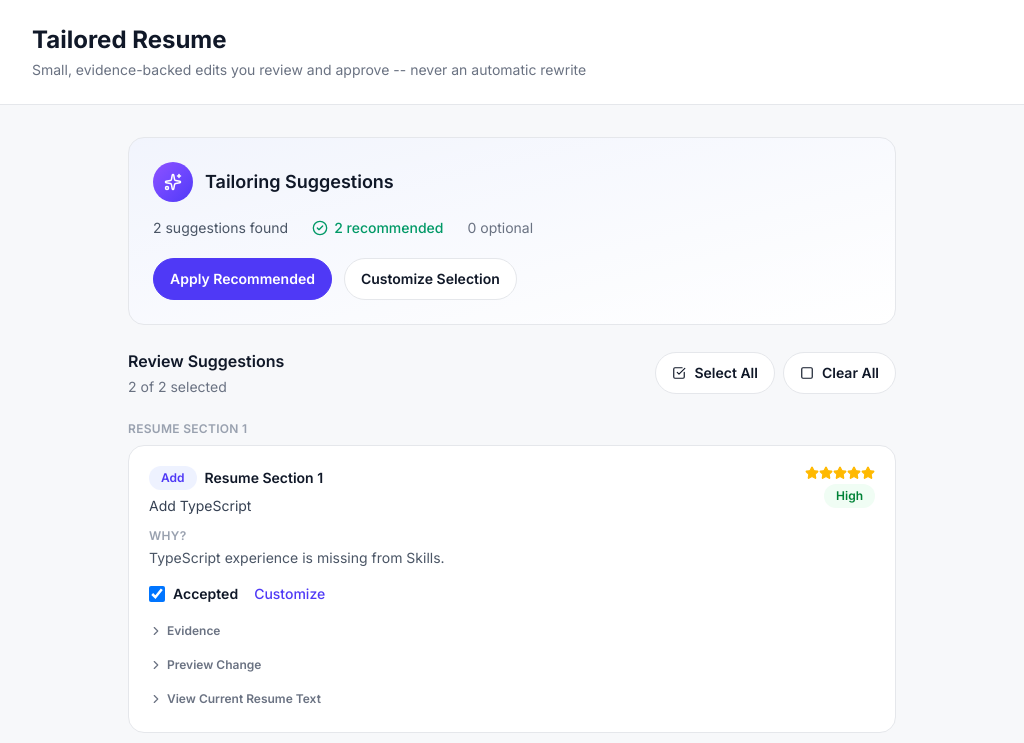
Test: TailoredResumePage: reviewing and selecting suggestions › Clear All clears every selection, and Select All reselects every suggestion
This screenshot has width=1024, height=743.
Click the button "Clear All".
click(840, 373)  # box [783, 352, 896, 394]
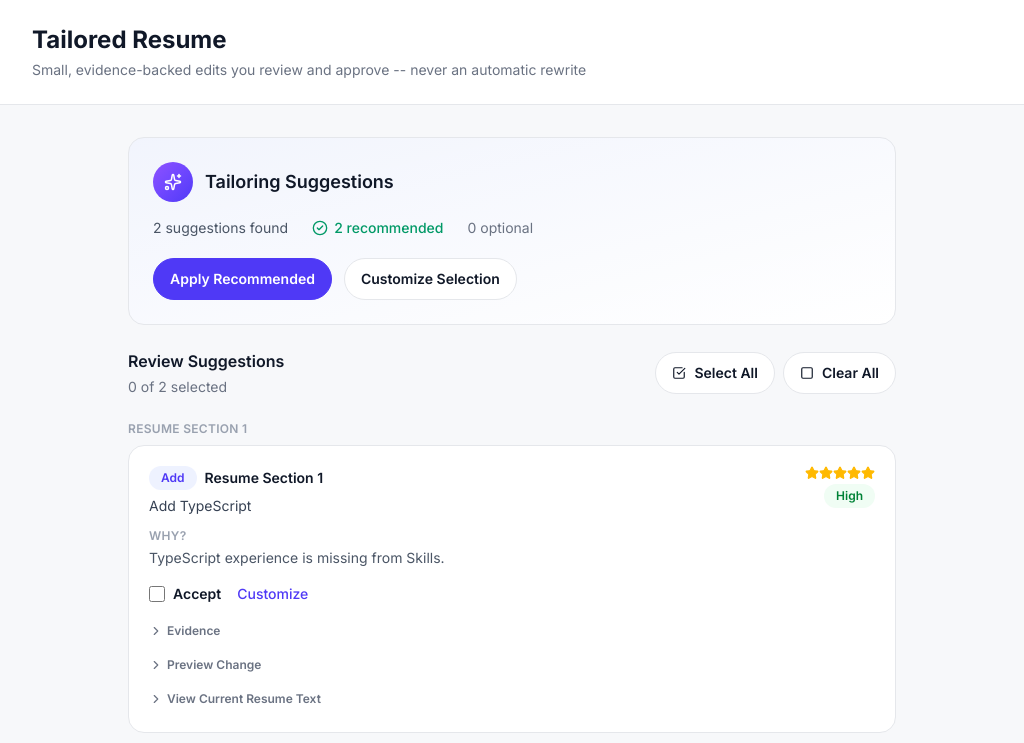
Expected: the text "0 of 2 selected" is shown, [128, 378, 227, 395]
Expected: the checkbox is not checked, [149, 586, 165, 602]
Click the button "Select All".
click(715, 373)  # box [656, 352, 775, 394]
(page scrolled)
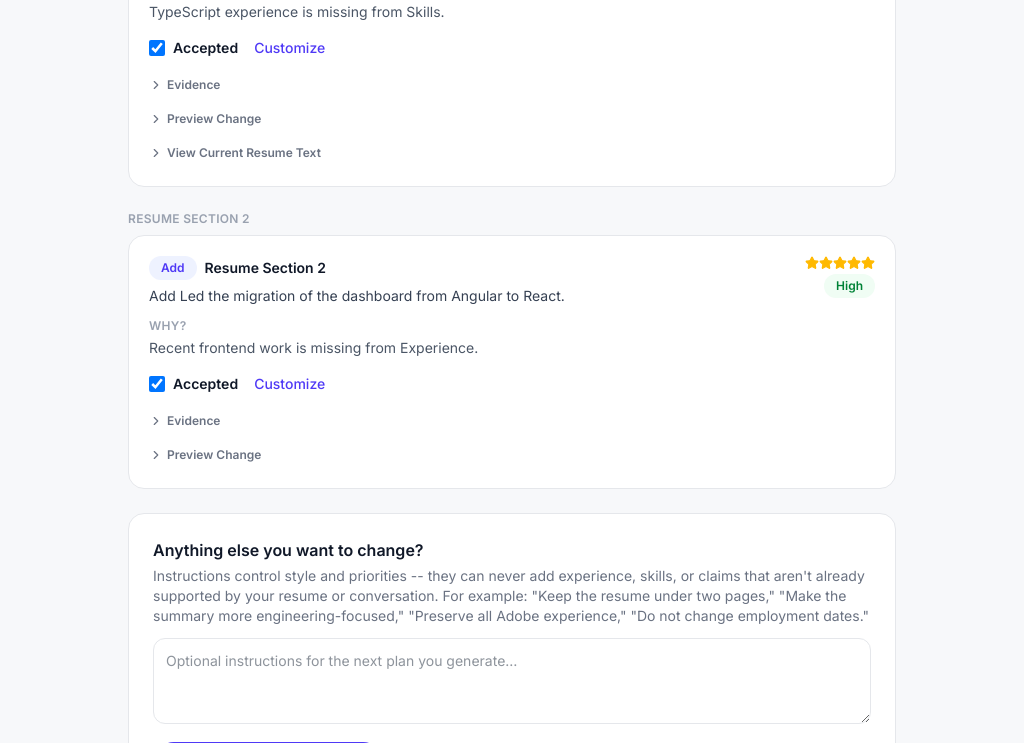
Expected: the checkbox labelled "Accepted" below "Add TypeScript" is checked, [149, 40, 165, 56]
Expected: the 2nd checkbox labelled "Accepted" is checked, [149, 376, 165, 392]
